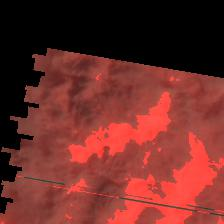landslides: (65, 189, 75, 206), (115, 42, 123, 62), (191, 80, 204, 90)
